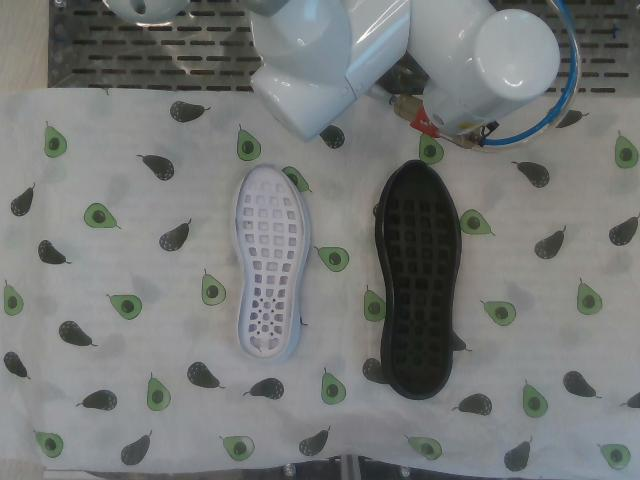shoes: (384, 162, 457, 395), (236, 164, 304, 359)
